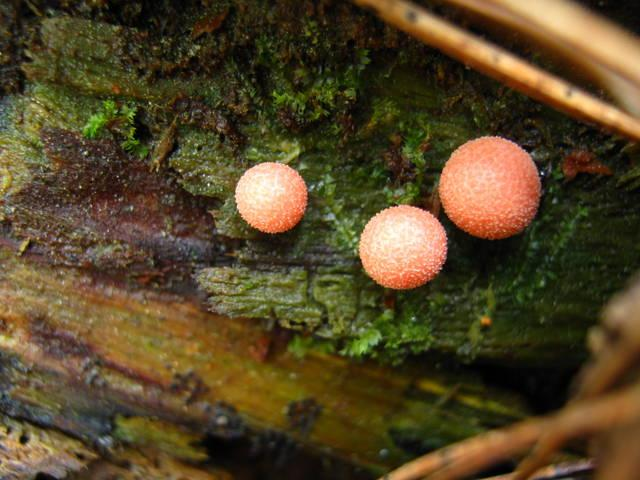Non-edible Mushroom: (437, 134, 542, 240), (357, 203, 448, 290), (233, 159, 308, 234)
